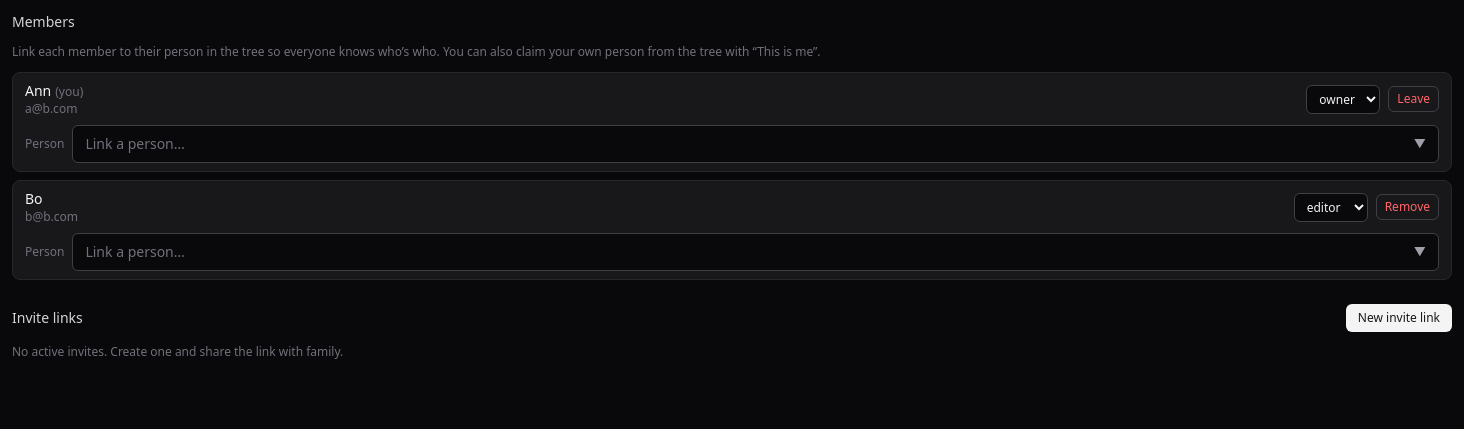
Test: MembersPanel › surfaces a server error (e.g. last-owner guard)
Expected: the text "Ann" is shown, [25,81,51,100]
What coordinates should you click on to do the following:
click the button "Leave"
I would click on:
 (1414, 99)
Its box is [1388,86,1439,112].
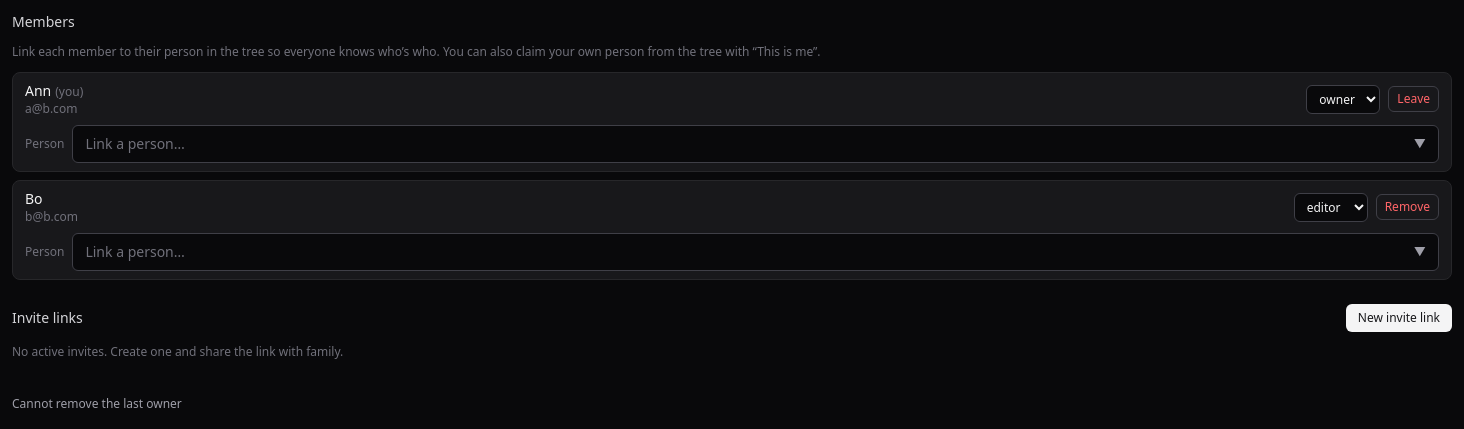
Result: the text "Cannot remove the last owner" is shown at [12,395,182,412]
